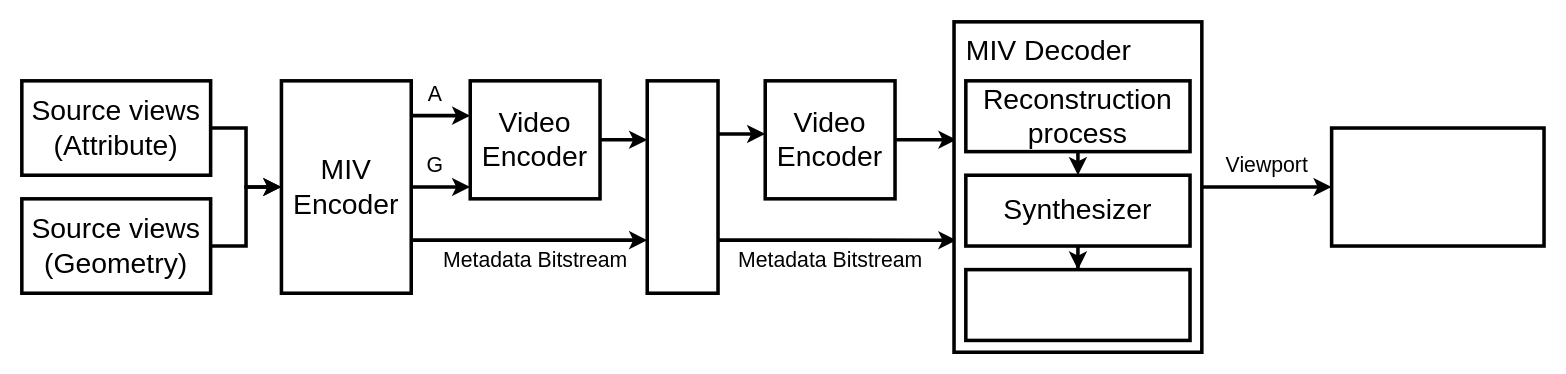
Some shapes in this 1566 by 374 pixel diagram are drawn without their labels. The shapes that lost their labels are listed below. From the top down, each one's centre as x and y in pixels, then its label:
At pixel 682 186: "Bitstream".
At pixel 1437 186: "6DoF Immersive Video".
At pixel 1077 304: "Inpainting".
